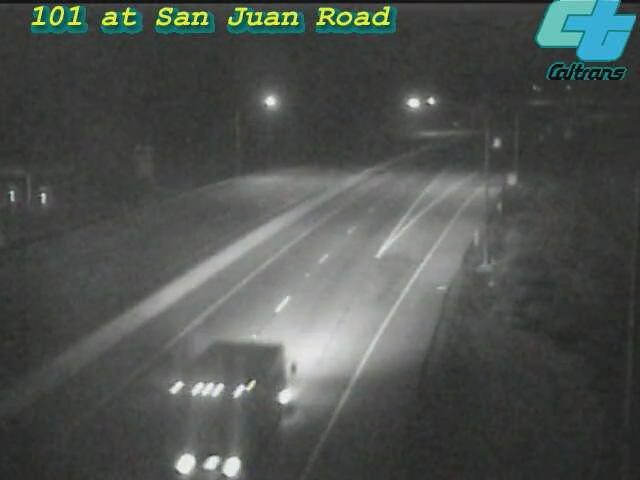vehicle: (162, 346, 272, 456)
